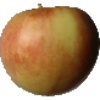apple: (1, 2, 100, 99)
